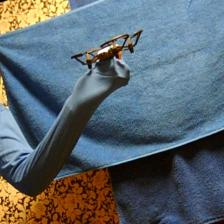drone: (70, 28, 144, 78)
